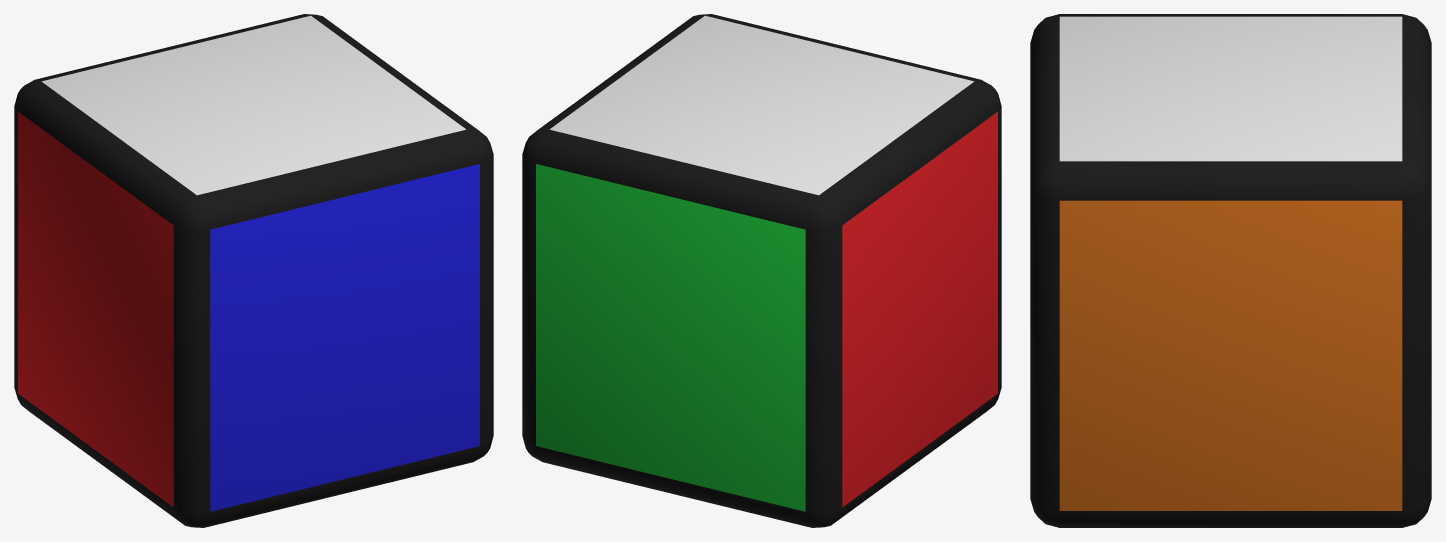
Rendered from Block-Material-Mapped.fbx.
3 views of the same model, side by side, from view 1: azimuth 30°, elevation 25°; view 2: azimuth 150°, elevation 25°; view 3: azimuth 270°, elevation 25° (orthographic). The views are drawn at different scales.
Visible parts, largest first — view 1: Cube.001; view 2: Cube.001; view 3: Cube.001.
Part boxes in pixels (box(x1,y1,x2,y2)): Cube.001: box(14, 14, 493, 527); Cube.001: box(522, 14, 1001, 527); Cube.001: box(1030, 14, 1431, 527).
Size of the model in its own units: 100 by 100 by 100.
